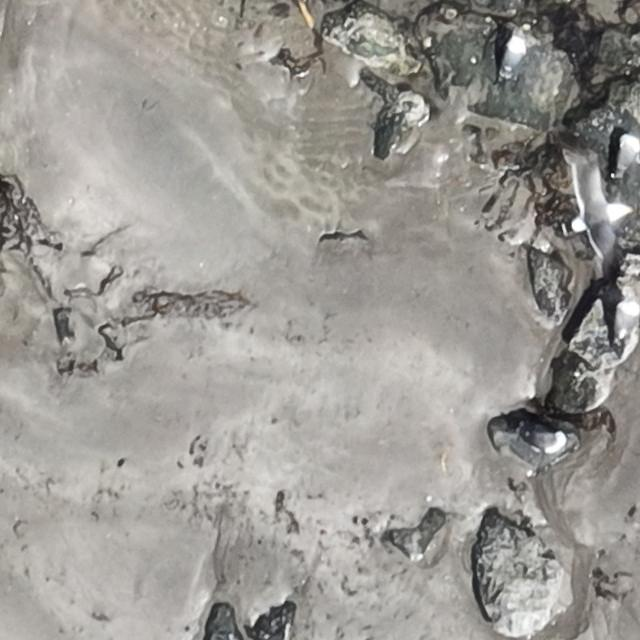F: (574, 162, 629, 274)
umineko: (612, 293, 637, 355), (521, 425, 567, 454), (502, 40, 522, 74)
